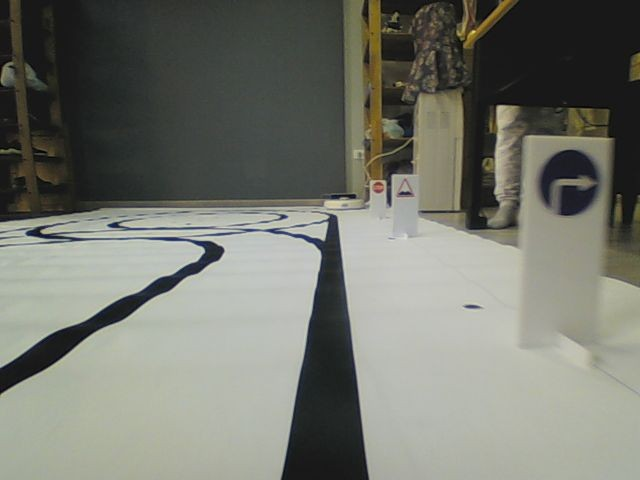Nerov: (395, 177, 415, 198)
Right: (537, 148, 600, 218)
